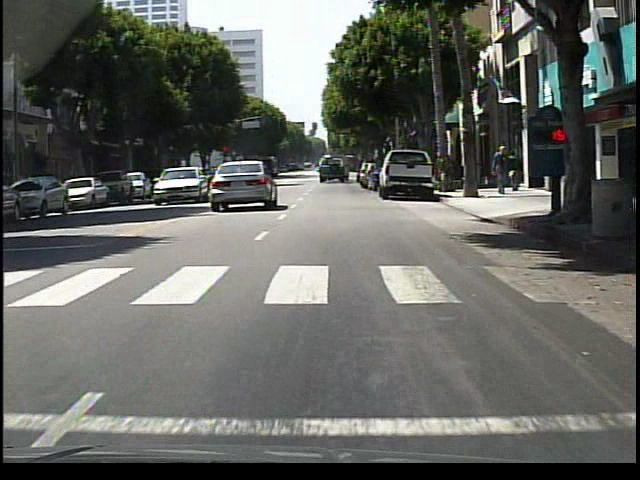person: (492, 145, 512, 198), (507, 151, 521, 194), (238, 160, 249, 203)
